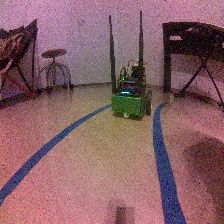rob: (110, 65, 152, 119)
